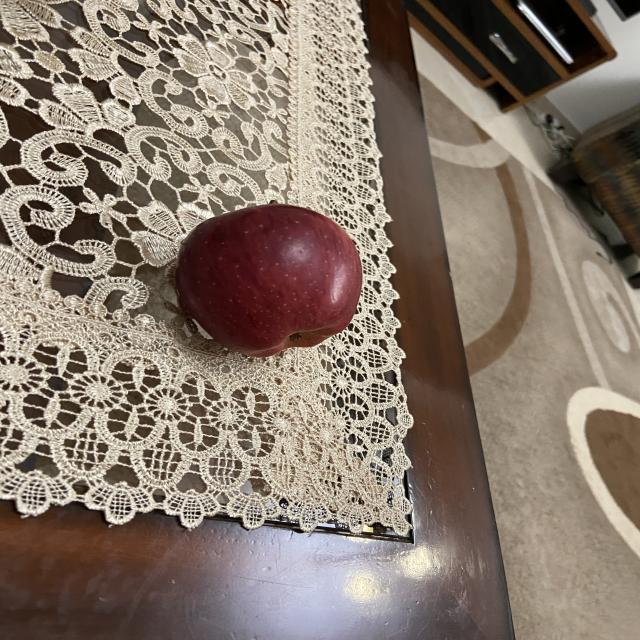apple: (175, 200, 366, 359)
